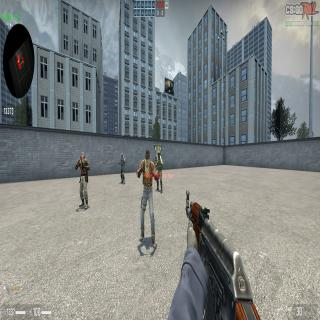CT-Body: (155, 156, 163, 193), (118, 156, 125, 184)
CT-Head: (158, 151, 160, 160), (121, 153, 123, 159)
T-Body: (136, 160, 158, 249), (75, 158, 90, 210)
T-Head: (145, 149, 150, 166), (81, 151, 85, 163)
